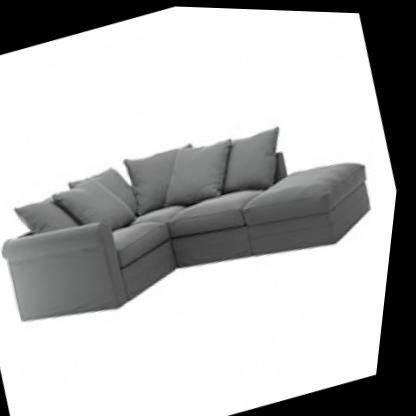Sofa: (0, 62, 408, 365)
